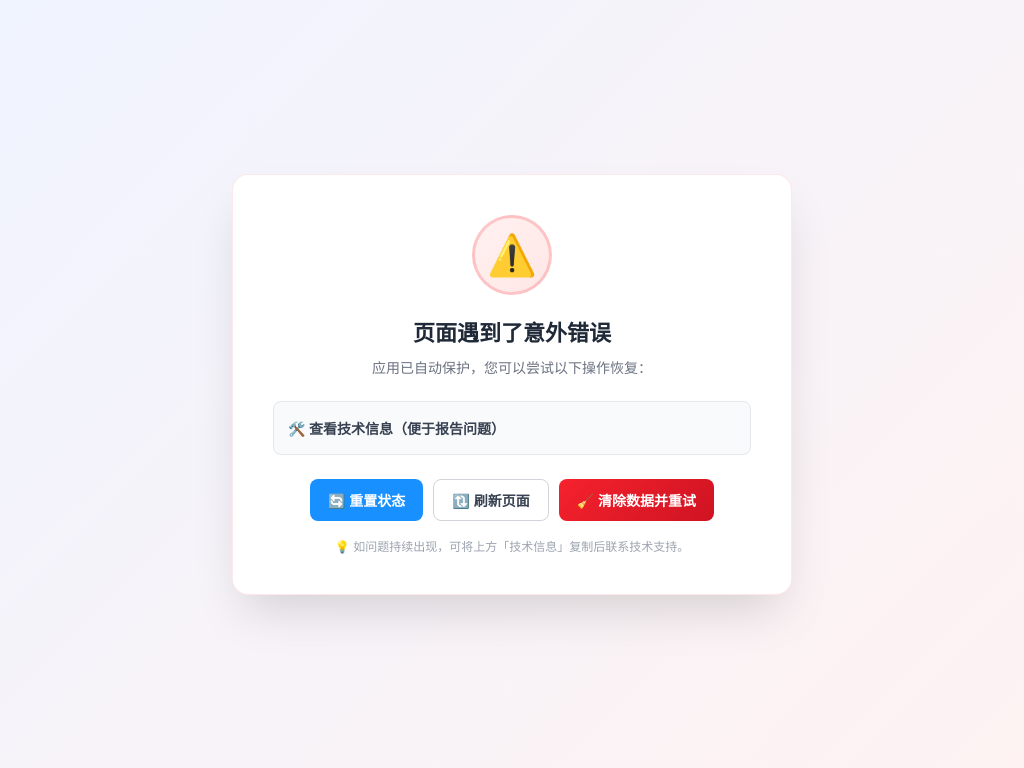
it: ErrorBoundary › details 区域展示技术信息
使用 fireEvent 展开
Click the heading "查看技术信息（便于报告问题）": (407, 428) [309,420,505,436]
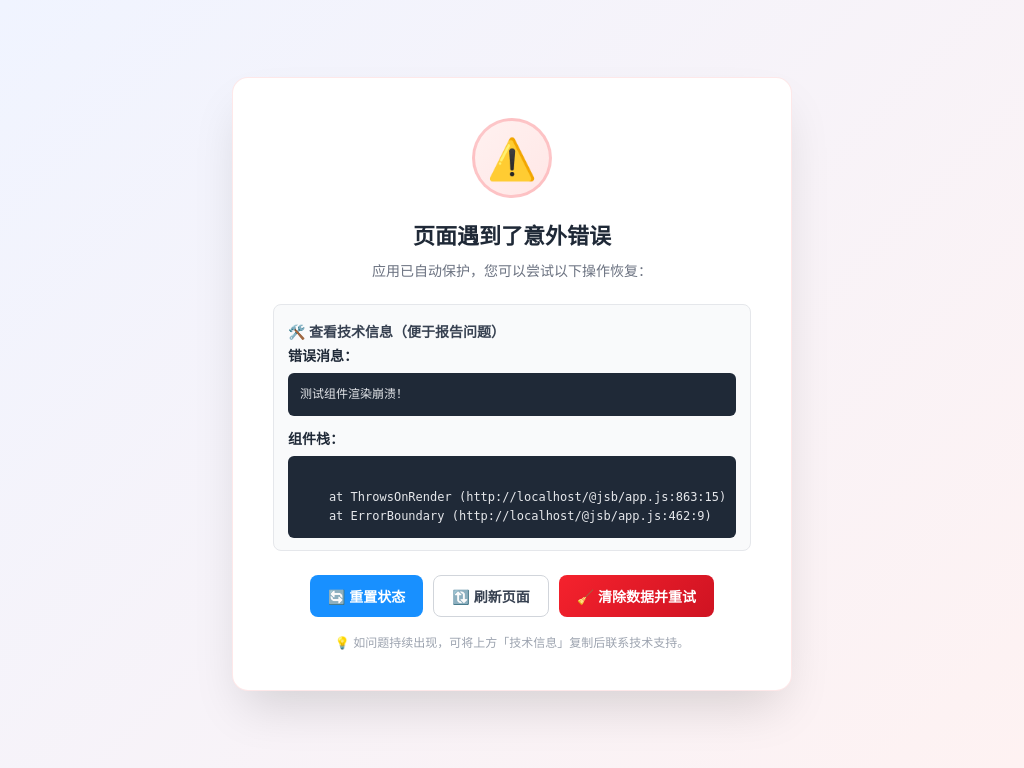
Now the text "测试组件渲染崩溃！" is shown, box [288,373,736,416]
